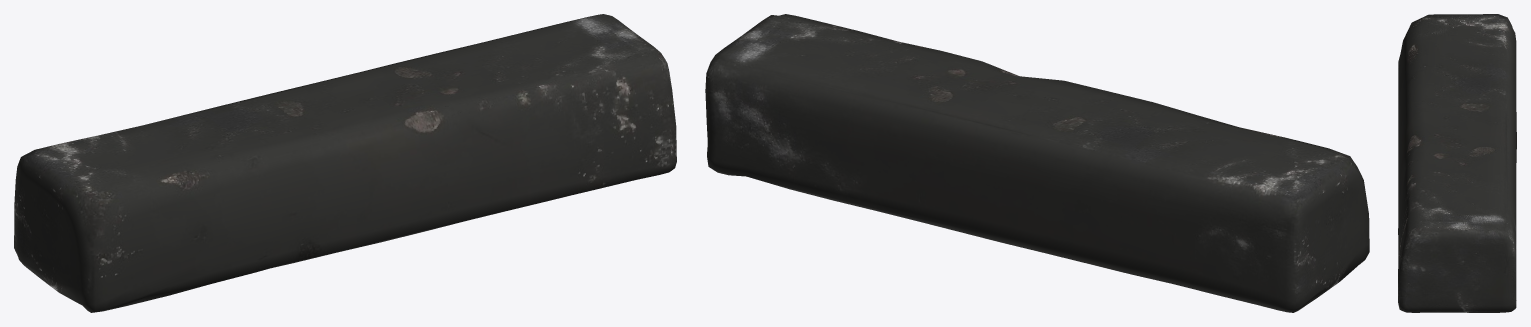
The model's file is RoadCurbBlack.fbx.
3 renders of one model, left to right at view 1: azimuth 30°, elevation 25°; view 2: azimuth 150°, elevation 25°; view 3: azimuth 270°, elevation 25°, orthographic. The views are drawn at different scales.
Visible parts, largest first — view 1: tripo_node_d4506be7; view 2: tripo_node_d4506be7; view 3: tripo_node_d4506be7.
Boxes of the visible parts, x1,y1,x2,y2 form: tripo_node_d4506be7: [14, 14, 676, 312]; tripo_node_d4506be7: [705, 14, 1369, 312]; tripo_node_d4506be7: [1398, 14, 1516, 312].
Size of the model in its own units: 98.09 by 18.1 by 22.57.
Materials: 1 (1 with a texture image).
